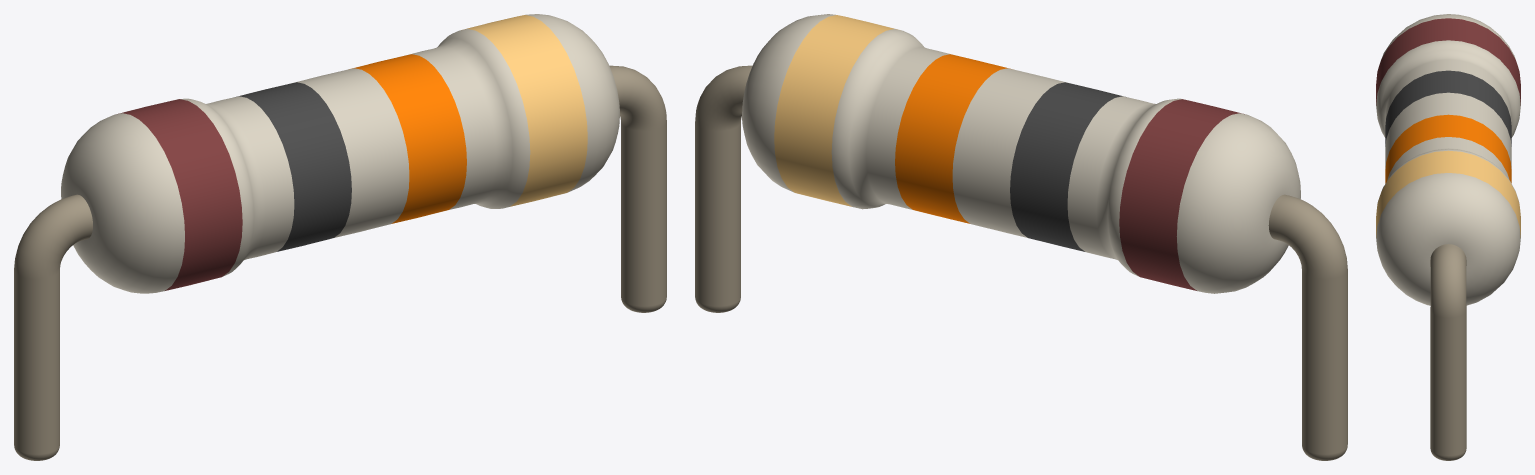
The model's file is Resistor Prueba v1.fbx.
3 renders of one model, left to right at view 1: azimuth 30°, elevation 25°; view 2: azimuth 150°, elevation 25°; view 3: azimuth 270°, elevation 25°, orthographic. The views are drawn at different scales.
Visible parts, largest first — view 1: Body1; view 2: Body1; view 3: Body1.
Part boxes in pixels (x1,y1,x2,y2): Body1: [14, 14, 666, 460]; Body1: [695, 14, 1347, 460]; Body1: [1376, 14, 1520, 460].
Bounding box in the file's own units: 8.12 × 3.73 × 2.
